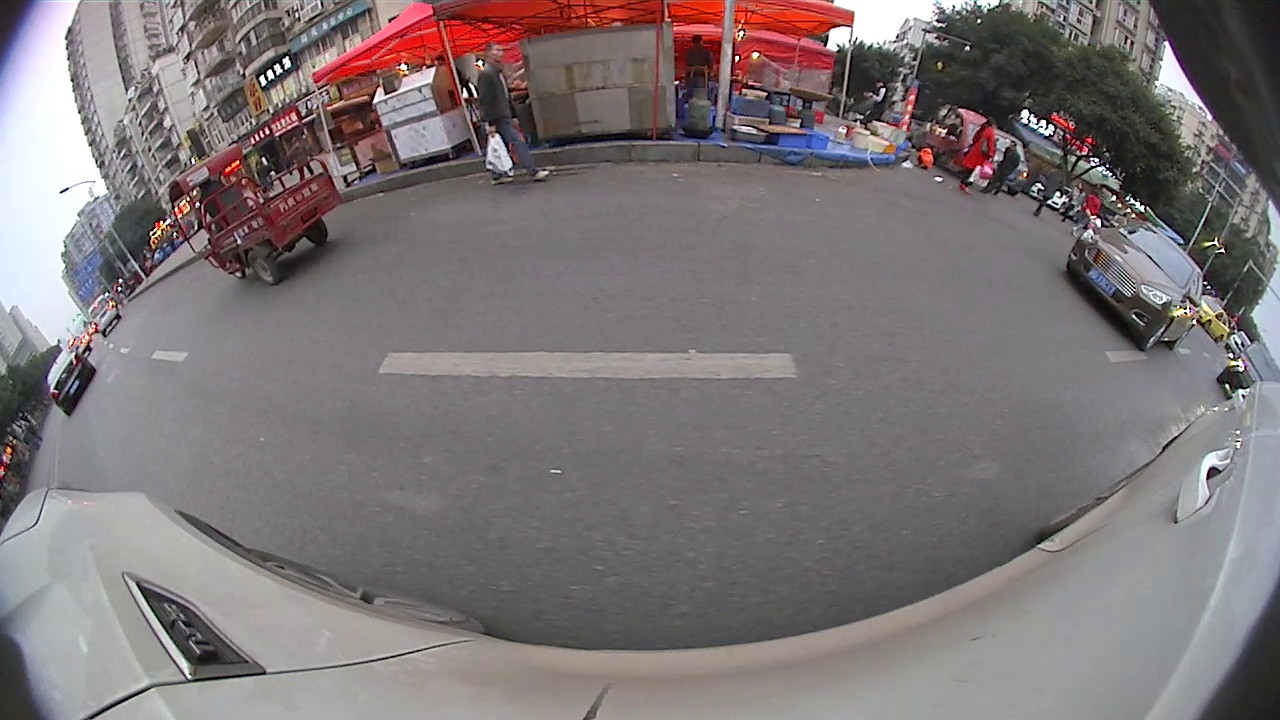car: (1072, 205, 1205, 350), (43, 340, 97, 418), (982, 123, 1031, 197), (82, 292, 124, 338), (1201, 290, 1233, 346)
front: (1138, 316, 1174, 355)
person: (482, 38, 519, 191), (960, 109, 998, 197)
rear: (246, 247, 280, 287)
rider: (166, 141, 347, 286)
